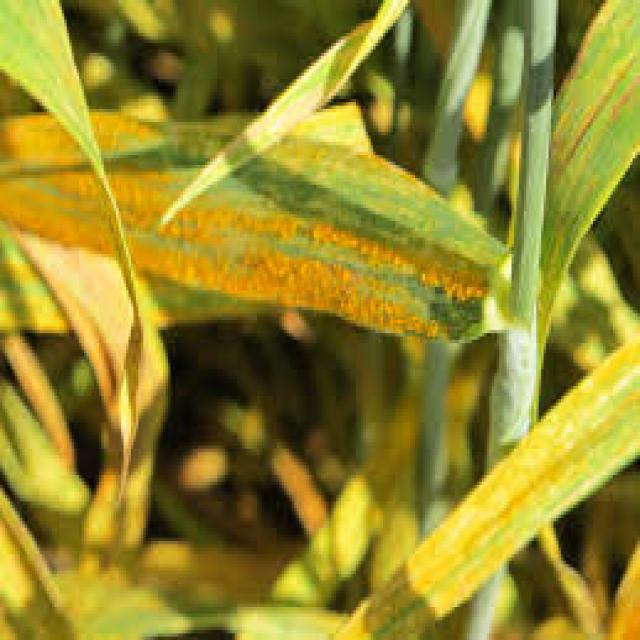leaf rust: (2, 119, 482, 340), (351, 356, 635, 640)
